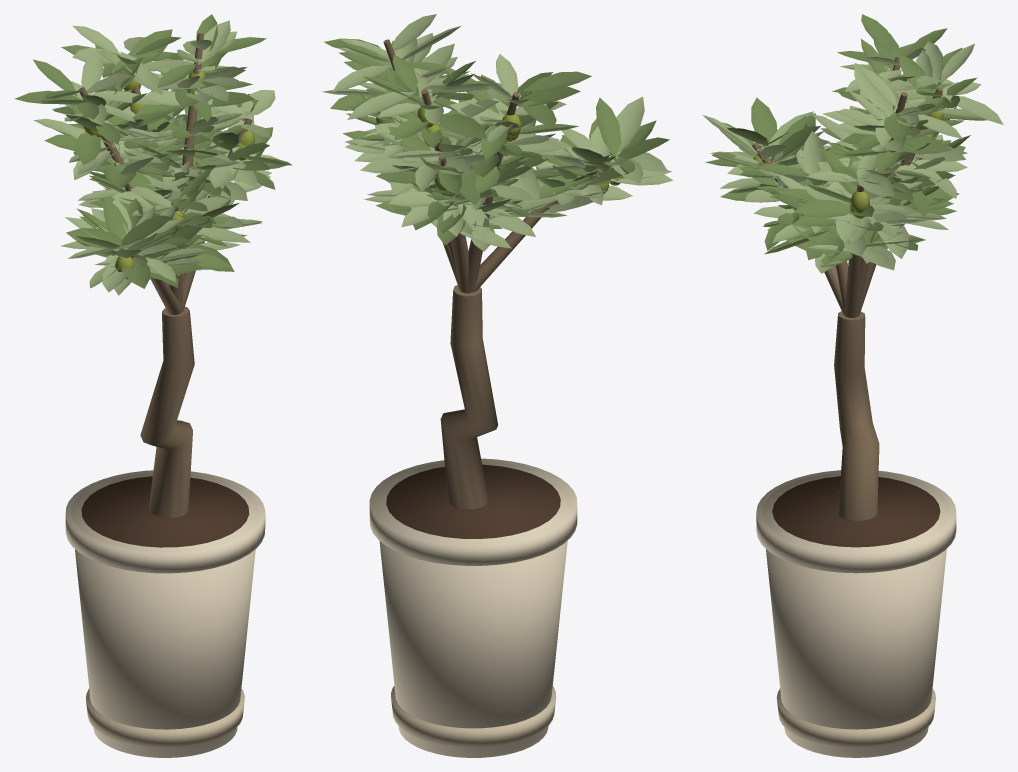
File: rooftop_olive.glb
3 views of the same model, side by side, from view 1: azimuth 30°, elevation 25°; view 2: azimuth 150°, elevation 25°; view 3: azimuth 270°, elevation 25° (orthographic). The views are drawn at different scales.
Visible parts, largest first — view 1: Pot, Soil, Trunk, PotLip, PotBand, Branch01, Leaf248, Leaf246, Leaf240, Leaf175, Leaf130, Leaf97 (+8 smaller); view 2: Pot, Soil, Trunk, PotLip, PotBand, Branch11, Leaf248, Leaf245, Branch02, Leaf25, Leaf176, Leaf22 (+7 smaller); view 3: Pot, Soil, Trunk, PotLip, PotBand, Branch20, Leaf346, Leaf282, Leaf99, Leaf219, Leaf70, Leaf176 (+5 smaller).
Boxes of the visible parts, <box> form: Pot: <box>71,472,259,757</box>; Soil: <box>81,476,249,547</box>; Trunk: <box>140,306,194,517</box>; PotLip: <box>65,470,265,573</box>; PotBand: <box>86,688,244,747</box>; Branch01: <box>182,33,203,278</box>; Leaf248: <box>120,215,172,245</box>; Leaf246: <box>66,228,128,249</box>; Leaf240: <box>103,197,130,249</box>; Leaf175: <box>81,49,103,94</box>; Leaf130: <box>75,132,100,165</box>; Leaf97: <box>198,20,230,64</box>; Pot: <box>375,461,571,757</box>; Soil: <box>386,464,560,538</box>; Trunk: <box>440,285,497,509</box>; PotLip: <box>369,458,577,565</box>; PotBand: <box>391,686,556,747</box>; Branch11: <box>472,165,610,292</box>; Leaf248: <box>596,97,621,156</box>; Leaf245: <box>610,96,644,156</box>; Branch02: <box>464,92,519,293</box>; Leaf25: <box>347,92,415,119</box>; Leaf176: <box>523,71,591,91</box>; Leaf22: <box>439,114,486,138</box>; Pot: <box>762,472,950,757</box>; Soil: <box>772,476,940,547</box>; Trunk: <box>834,311,879,521</box>; PotLip: <box>756,470,956,573</box>; PotBand: <box>776,688,935,747</box>; Branch20: <box>844,182,863,317</box>; Leaf346: <box>793,199,850,217</box>; Leaf282: <box>751,97,777,147</box>; Leaf99: <box>854,63,893,113</box>; Leaf219: <box>802,131,824,174</box>; Leaf70: <box>902,135,952,153</box>; Leaf176: <box>861,14,893,55</box>.
Size of the model in its own units: 0.6656 by 1.6 by 0.6435.
